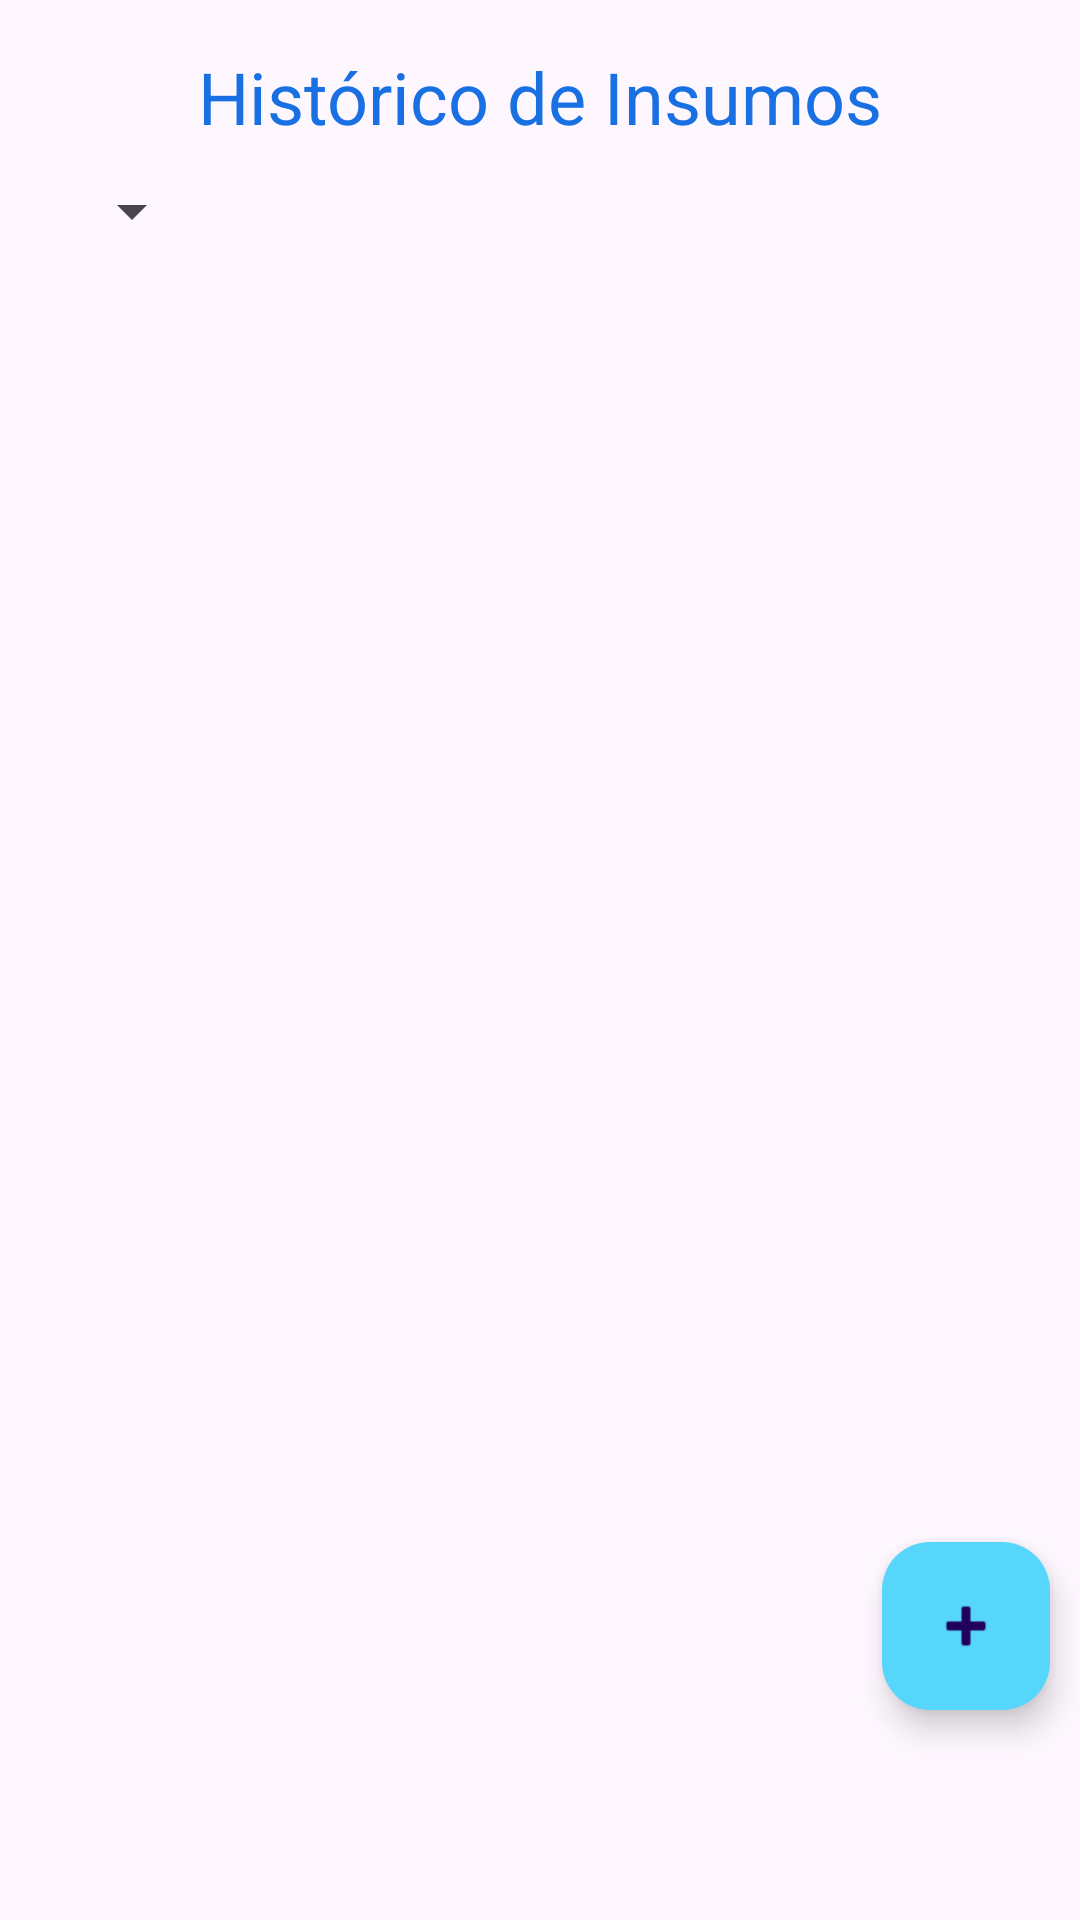

Icon bounding boxes for this 1080px x 1920px phone screenshot, format (x1,y1,x2,y2):
Adicionar mais quandidade desse Recurso: (882,1542,1050,1710)
